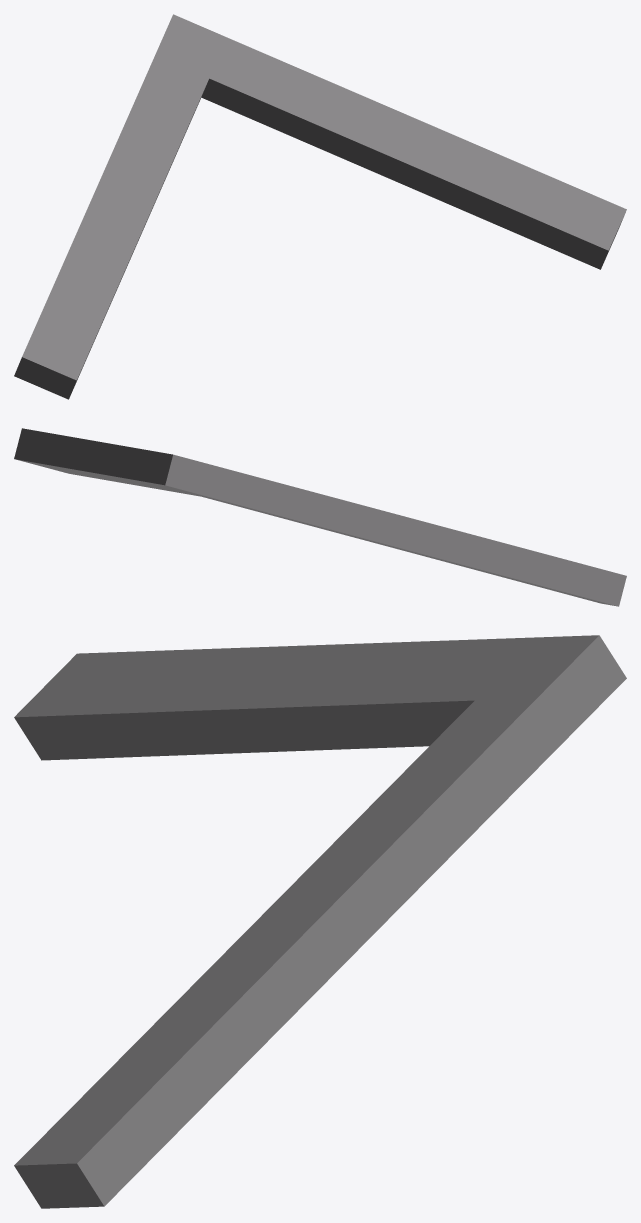
File: arrow.glb
The picture shows the model from 3 angles, top to bottom: view 1: azimuth 30°, elevation 25°; view 2: azimuth 150°, elevation 25°; view 3: azimuth 270°, elevation 25°; orthographic projection. The views are drawn at different scales.
Parts seen in each view (by area): view 1: submesh_00_LOD_1; view 2: submesh_00_LOD_1; view 3: submesh_00_LOD_1.
Part boxes in pixels (x1,y1,x2,y2): submesh_00_LOD_1: (14,14,626,399); submesh_00_LOD_1: (14,428,626,606); submesh_00_LOD_1: (14,635,626,1208).
Size of the model in its own units: 1 by 0.3196 by 0.5081.
Materials: 1 (1 with a texture image).
